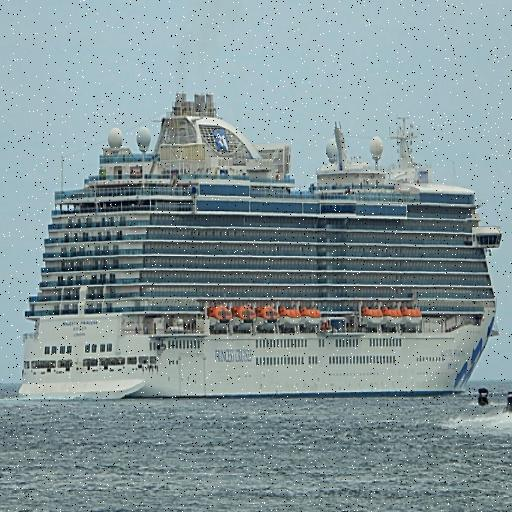cruises: (15, 93, 507, 407)
